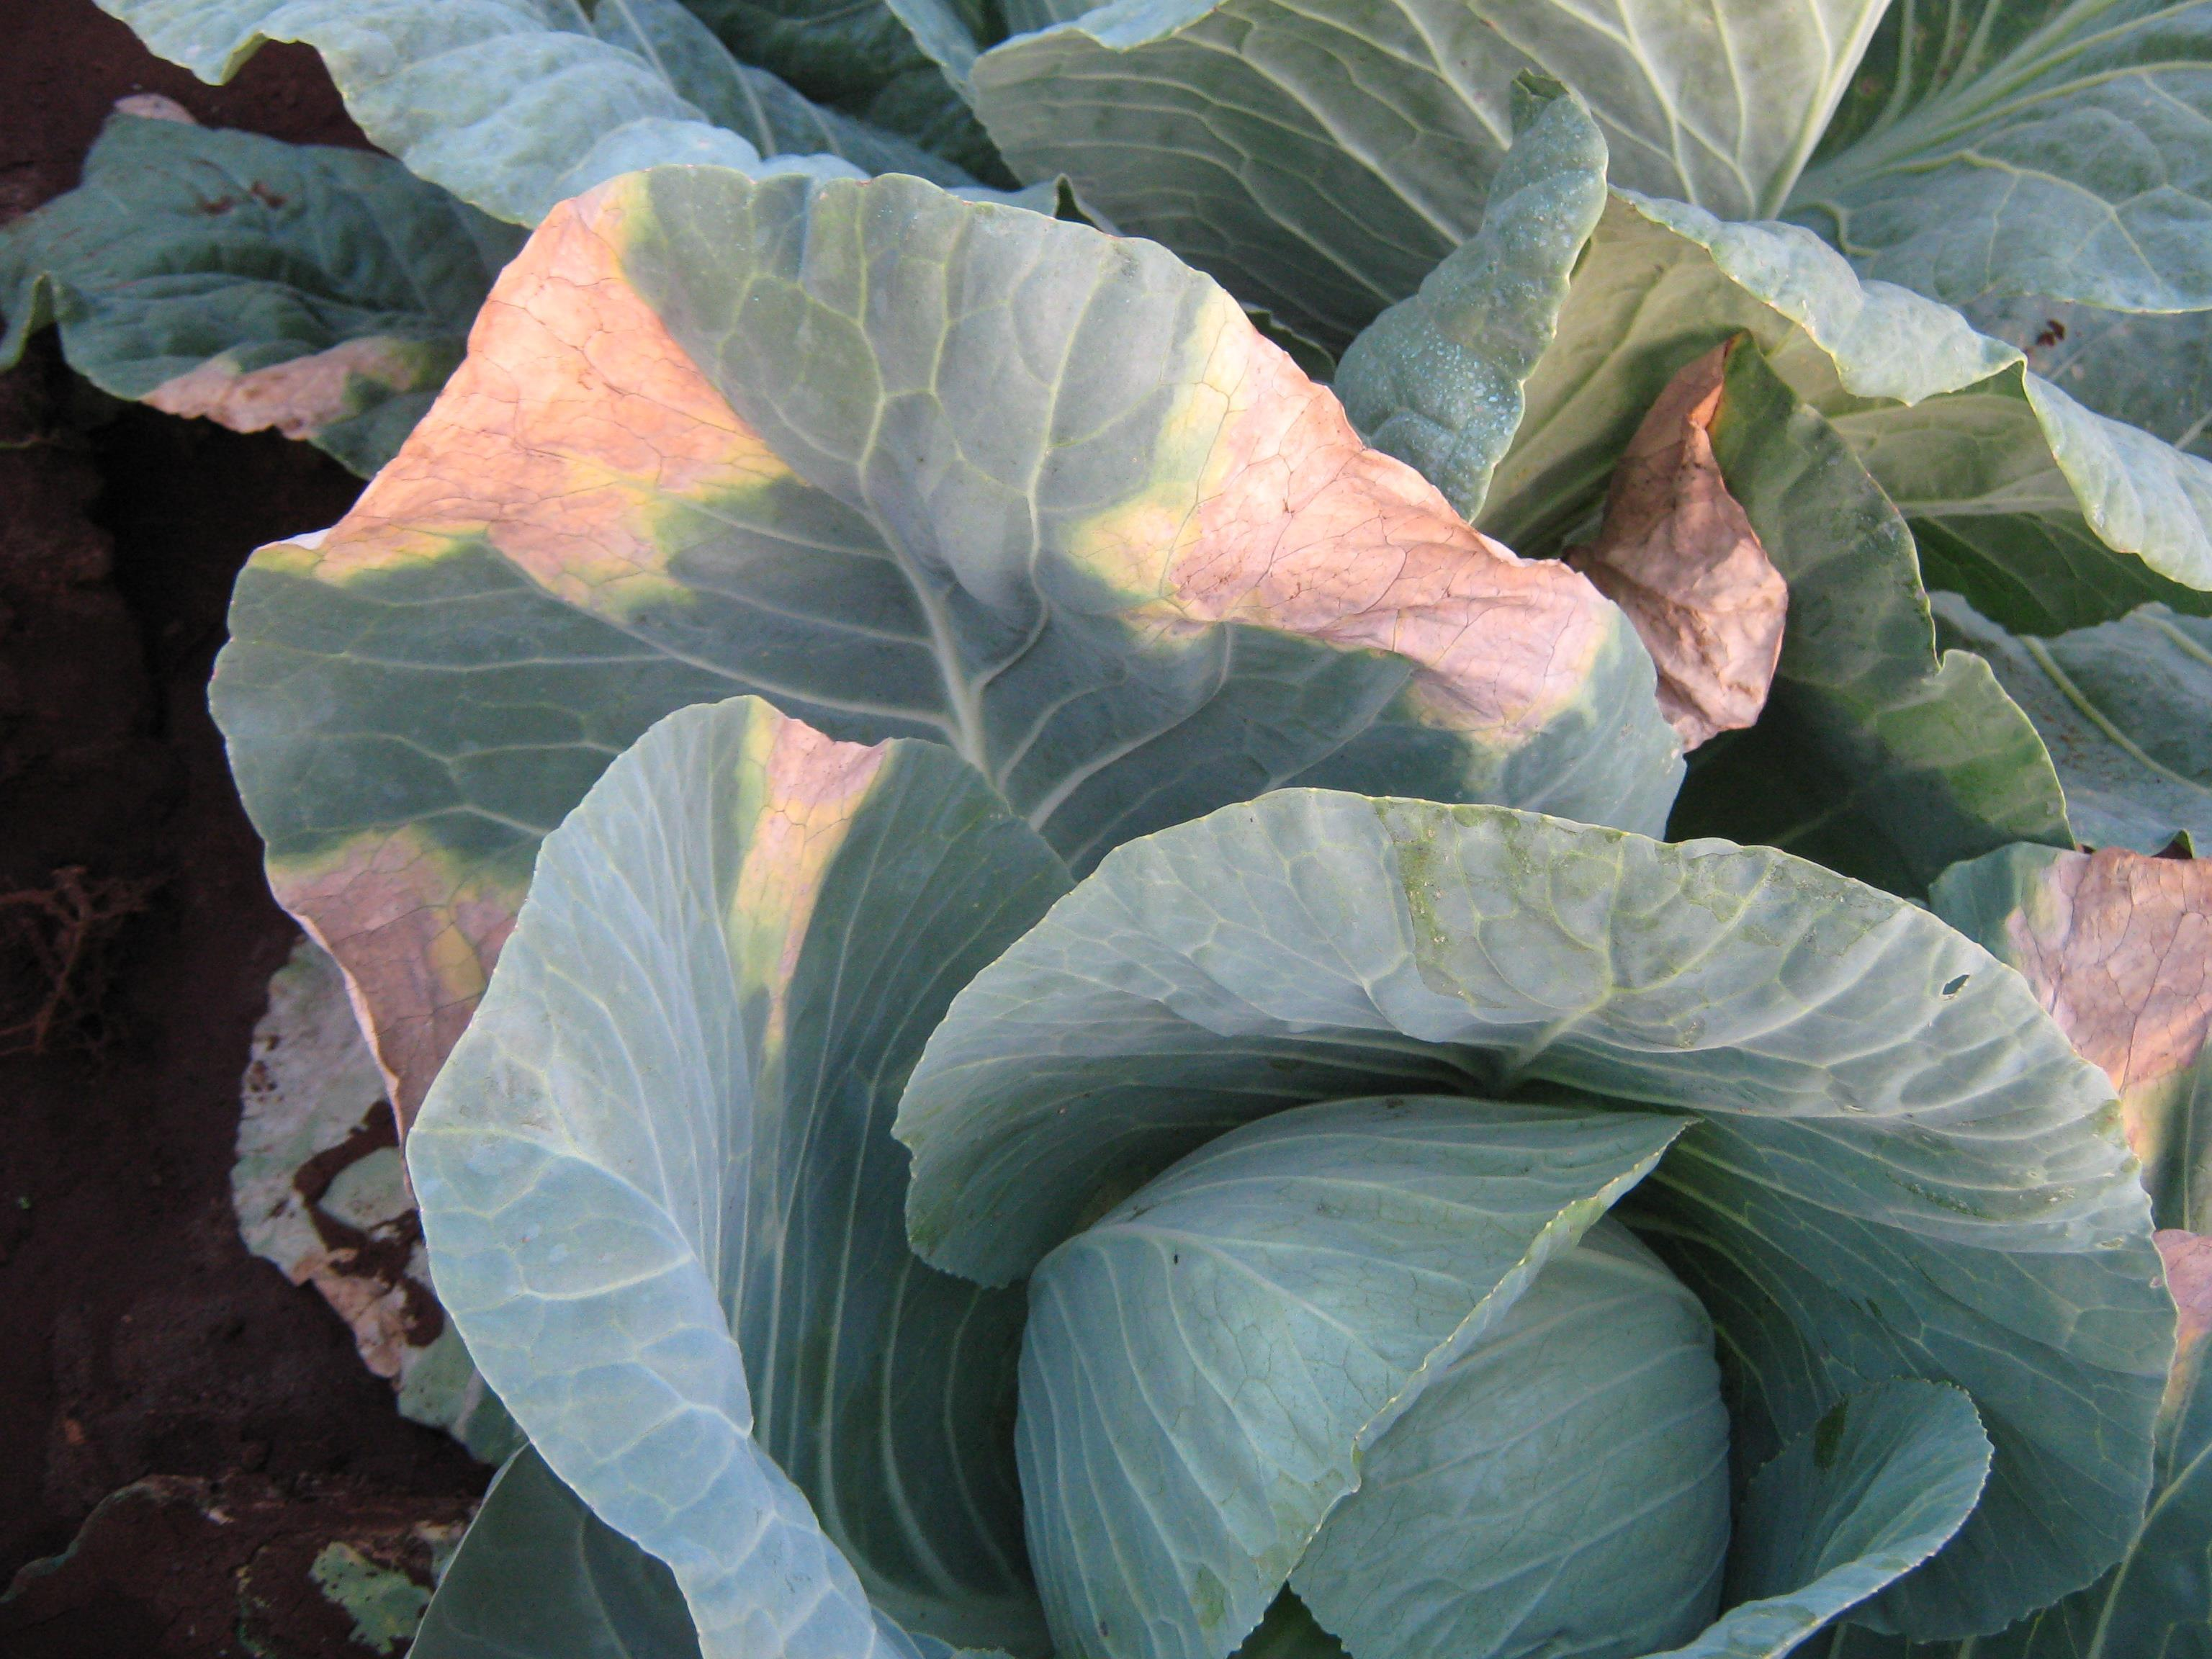Cabbage_Blight: (315, 153, 1949, 974)
